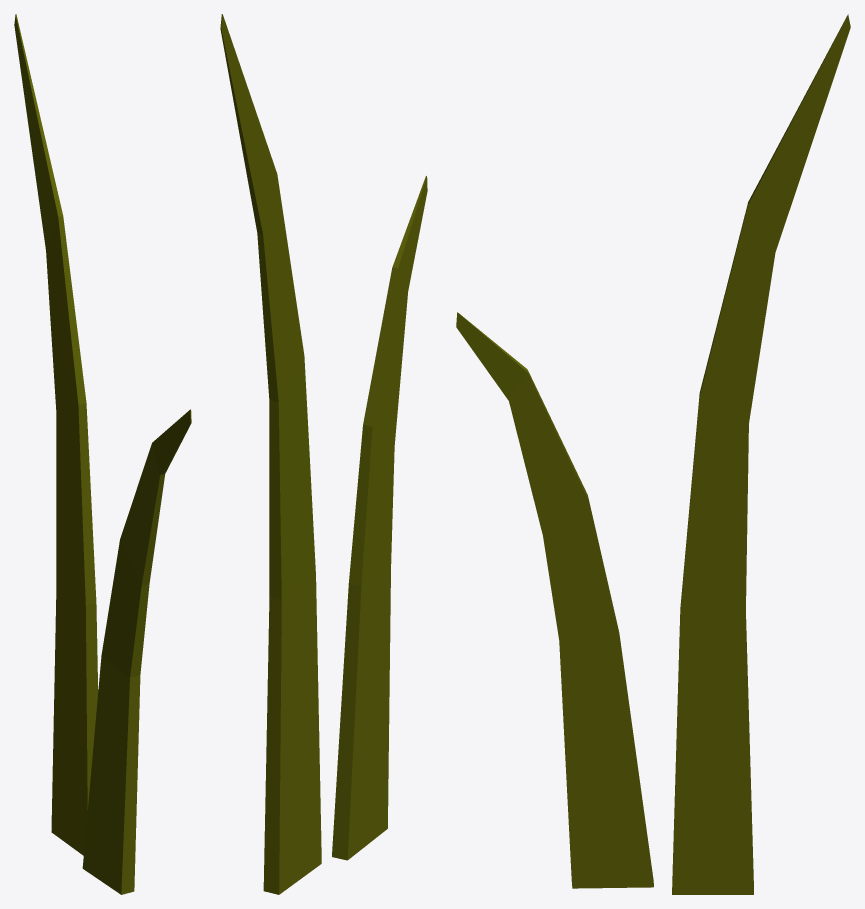
Rendered from PrairieGrass(4).fbx.
3 views of the same model, side by side, from view 1: azimuth 30°, elevation 25°; view 2: azimuth 150°, elevation 25°; view 3: azimuth 270°, elevation 25° (orthographic). The views are drawn at different scales.
Parts seen in each view (by area): view 1: PrairieGrass(4); view 2: PrairieGrass(4); view 3: PrairieGrass(4).
Part boxes in pixels (left/top/right/bottom): PrairieGrass(4): left=14, top=14, right=191, bottom=894; PrairieGrass(4): left=220, top=14, right=427, bottom=894; PrairieGrass(4): left=456, top=14, right=850, bottom=894.
Bounding box in the file's own units: 0.0542 × 1.5 × 0.6115.
